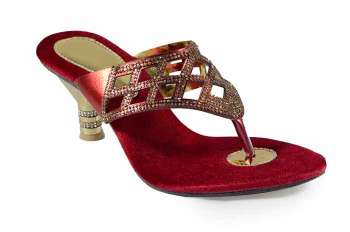Footwear: (33, 26, 329, 203)
